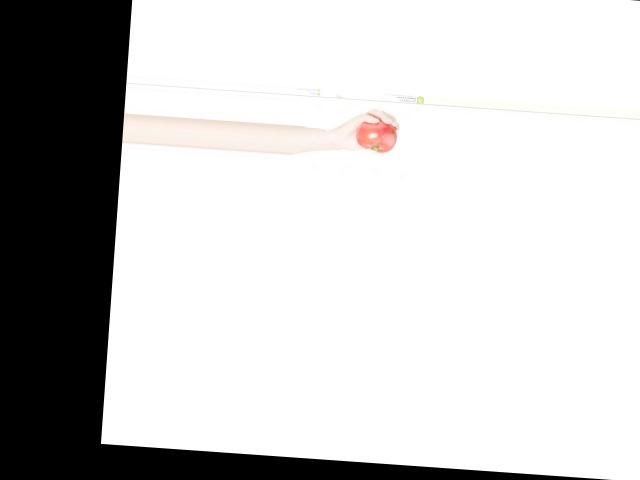tomato: (353, 117, 397, 154)
